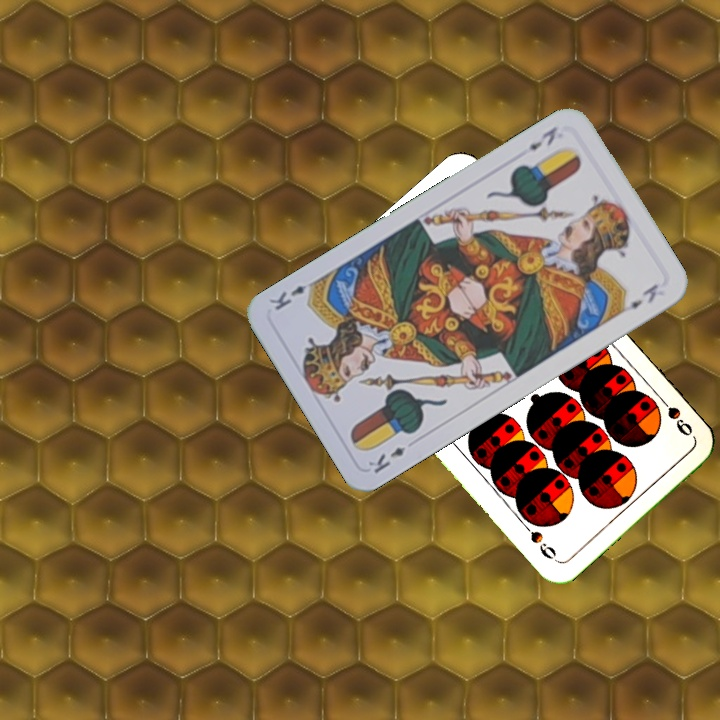EK: (364, 442, 408, 476), (524, 122, 560, 153)
S9: (653, 390, 695, 439)
